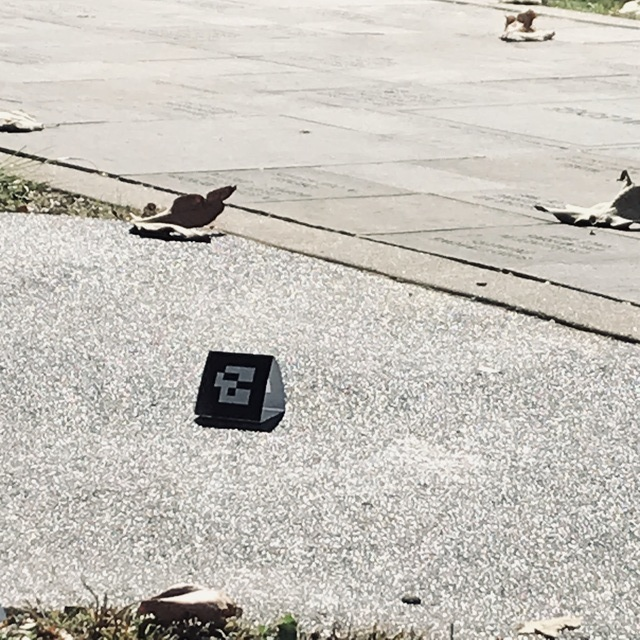ARTag: (194, 350, 286, 424)
